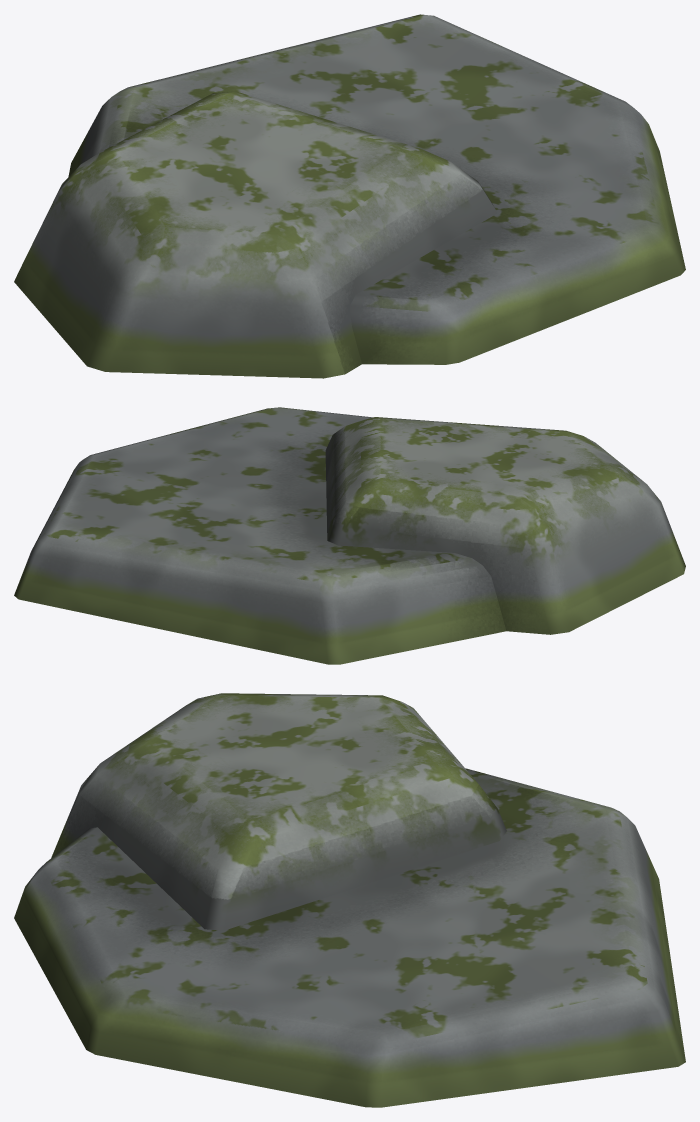
The model's file is slab_1_mossy.glb.
3 renders of one model, top to bottom at view 1: azimuth 30°, elevation 25°; view 2: azimuth 150°, elevation 25°; view 3: azimuth 270°, elevation 25°, orthographic. The views are drawn at different scales.
Visible parts, largest first — view 1: slab_1_mossy; view 2: slab_1_mossy; view 3: slab_1_mossy.
Part boxes in pixels (x1,y1,x2,y2): slab_1_mossy: (14,14,685,378); slab_1_mossy: (14,407,685,664); slab_1_mossy: (14,693,685,1107).
Bounding box in the file's own units: 2.6 × 0.5 × 2.2.
Materials: 1 (1 with a texture image).
